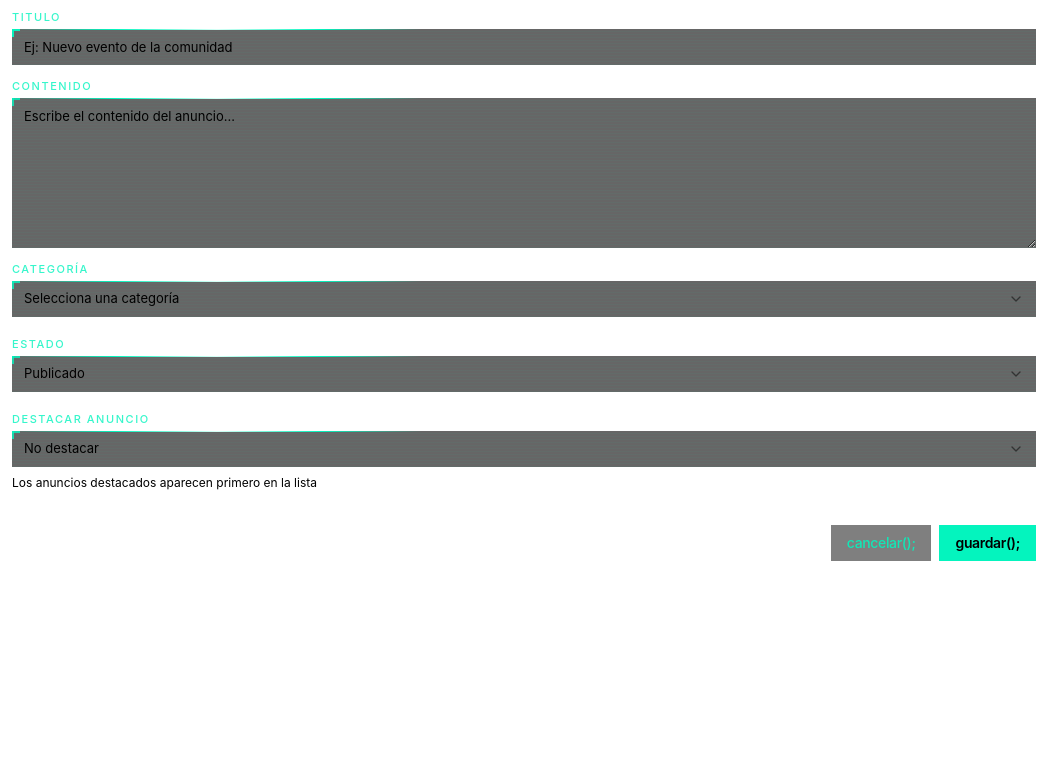
Test: AnnouncementForm › validates the required fields
Click the button "guardar();" at coordinates (988, 542), box [940, 524, 1036, 560]
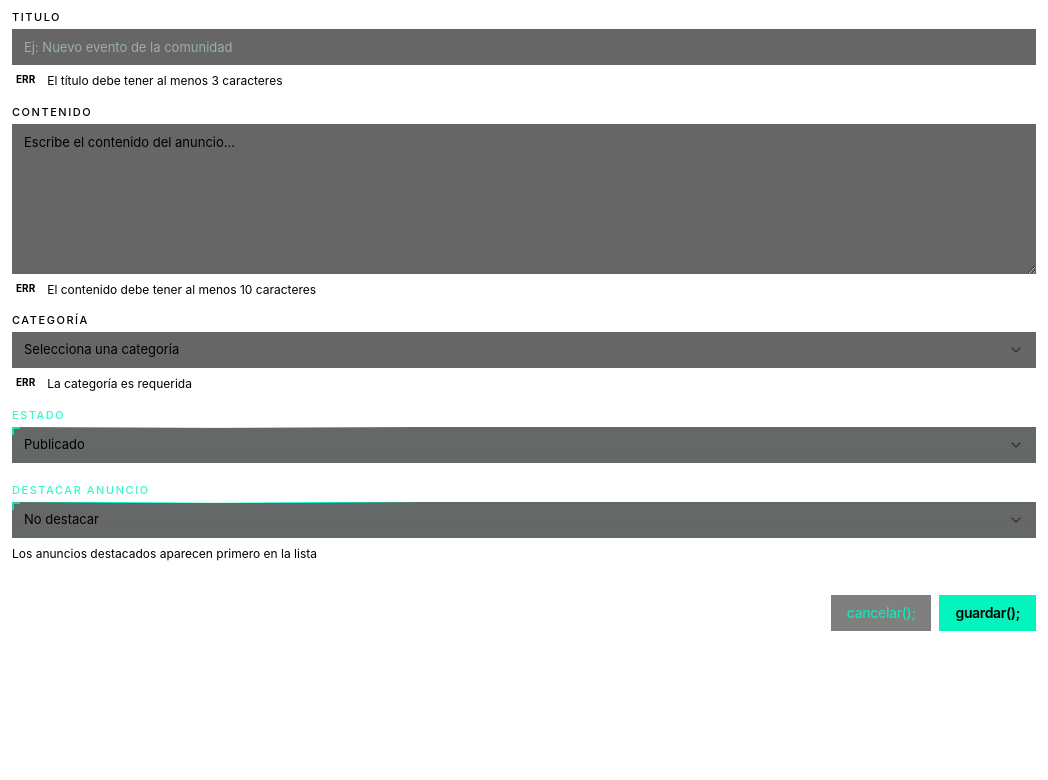
Expected: the text "El título debe tener al menos 3 caracteres" is shown, [47, 71, 282, 90]
Expected: the text "El contenido debe tener al menos 10 caracteres" is shown, [47, 280, 316, 299]
Expected: the text "La categoría es requerida" is shown, [47, 374, 192, 394]
